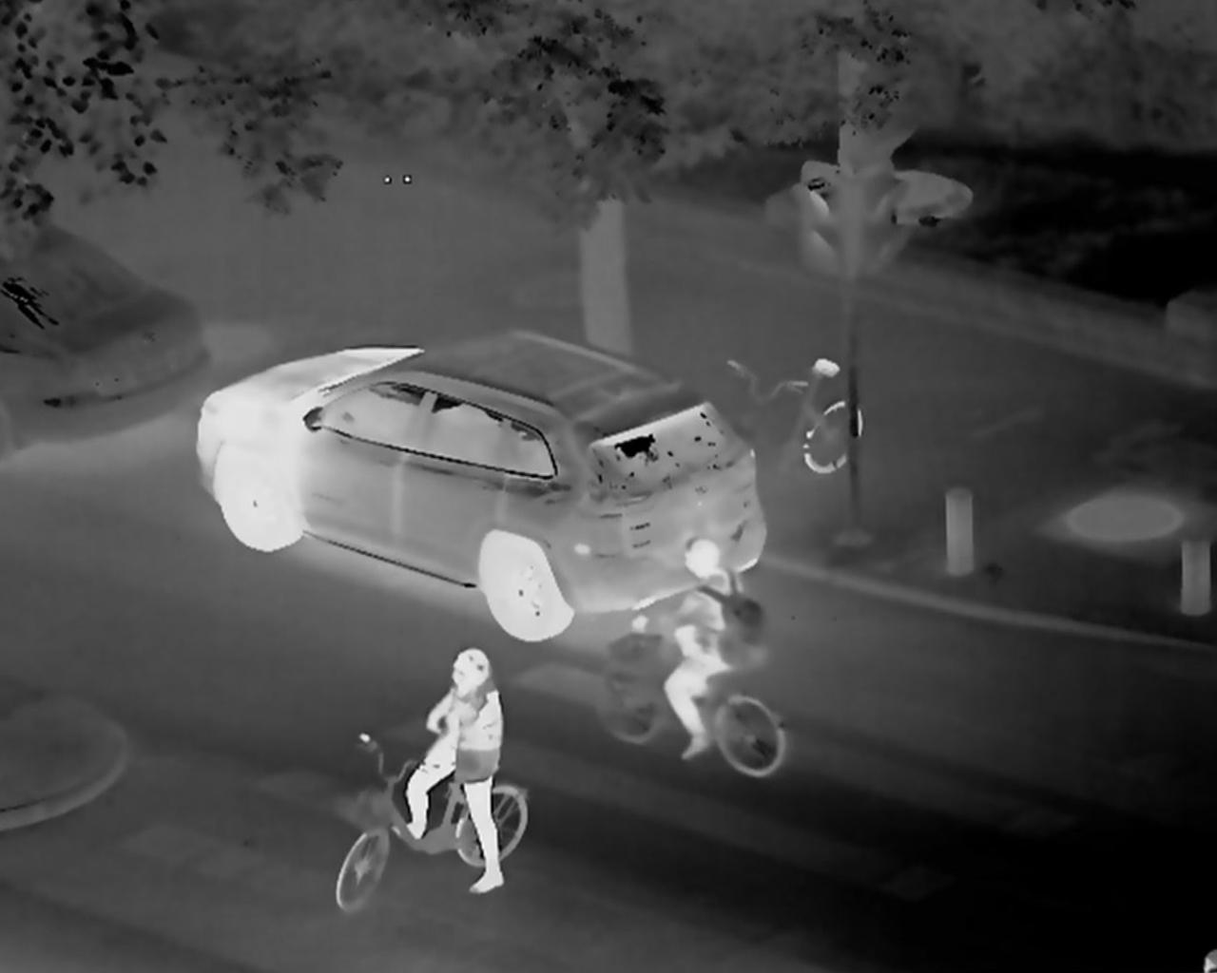person: (630, 539, 766, 763), (386, 646, 507, 891)
